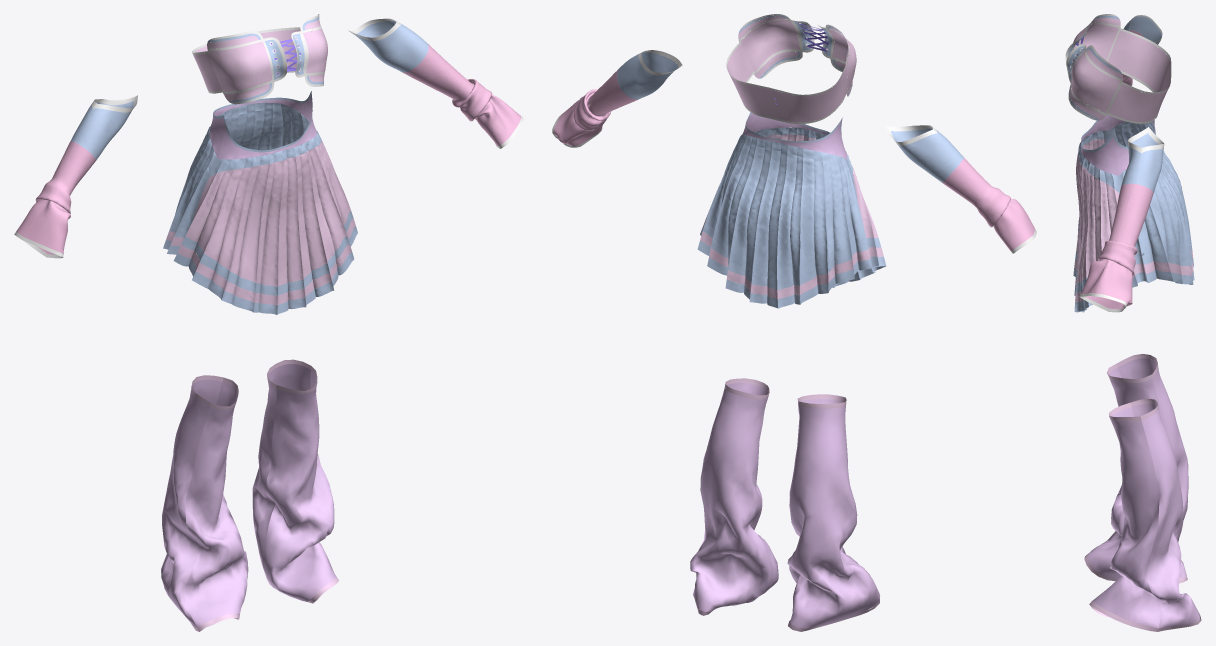
File: Domi_draco.glb
3 views of the same model, side by side, from view 1: azimuth 30°, elevation 25°; view 2: azimuth 150°, elevation 25°; view 3: azimuth 270°, elevation 25° (orthographic). The views are drawn at different scales.
Parts seen in each view (by area): view 1: Domi_Mesh; view 2: Domi_Mesh; view 3: Domi_Mesh.
Boxes of the visible parts, box(x1,y1,x2,y2) form: Domi_Mesh: box(14, 14, 523, 631); Domi_Mesh: box(552, 14, 1036, 631); Domi_Mesh: box(1065, 14, 1201, 631).
Size of what is drawn, in the model's own units: 1.16 by 1.32 by 0.2863.
